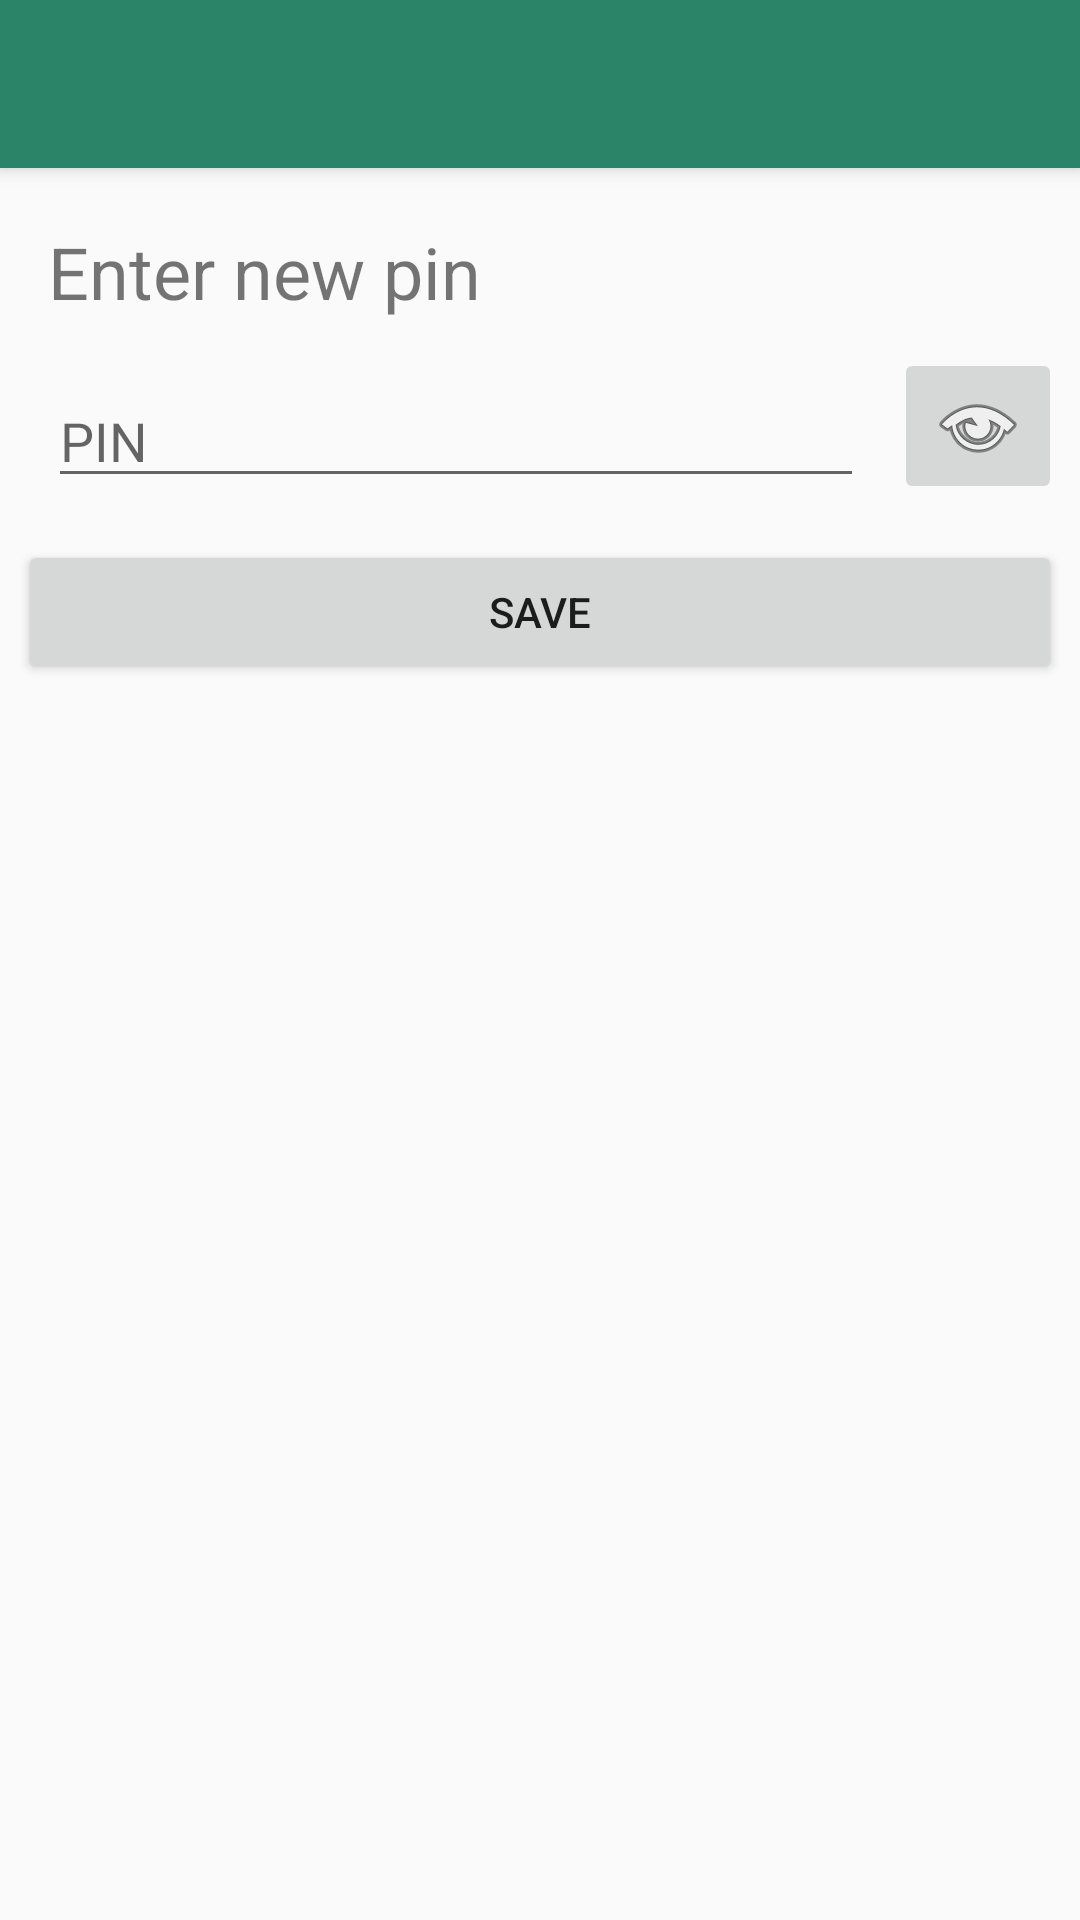

Screen size 1080x1920. Icon name, then its center in pixels as (x,y):
view: (978,426)
